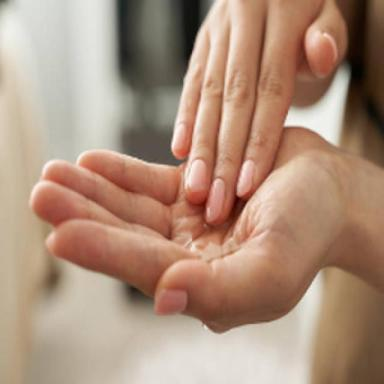normal skin: (31, 0, 384, 332)
